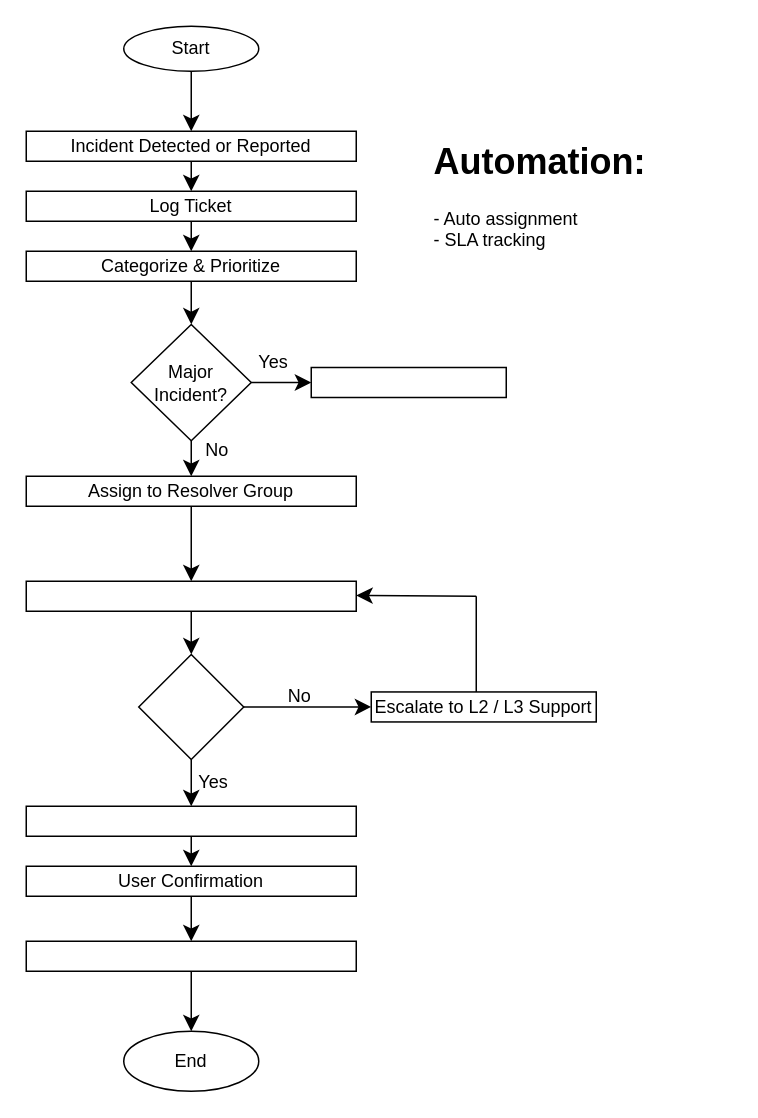
Image size: 758x1118. Some labels were removed from this diagram. Each missing label, with the box of its shape:
Close Incident: (25, 940, 356, 971)
Investigate & Diagnose: (25, 580, 356, 611)
Major Incident Process: (310, 366, 506, 398)
Resolution & Recovery: (25, 805, 356, 836)
Resolved?: (137, 653, 244, 759)
